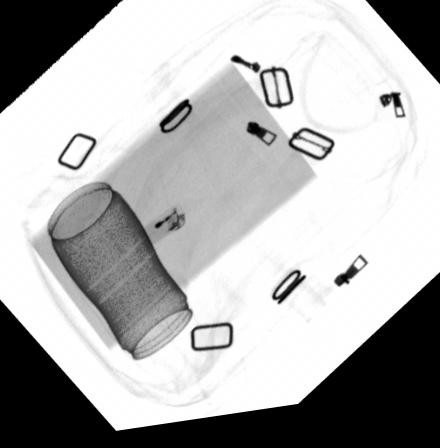Lighter: (131, 208, 185, 258)
